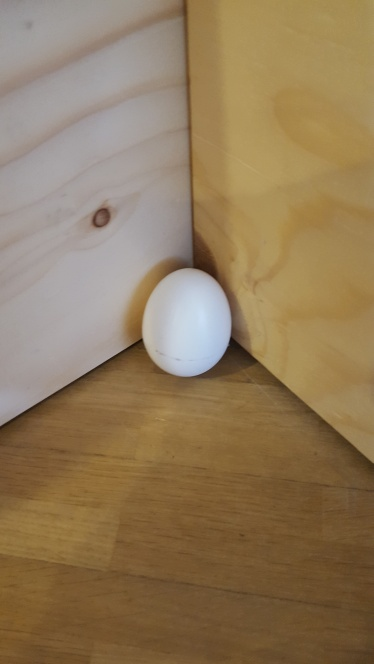egg: (141, 265, 233, 377)
